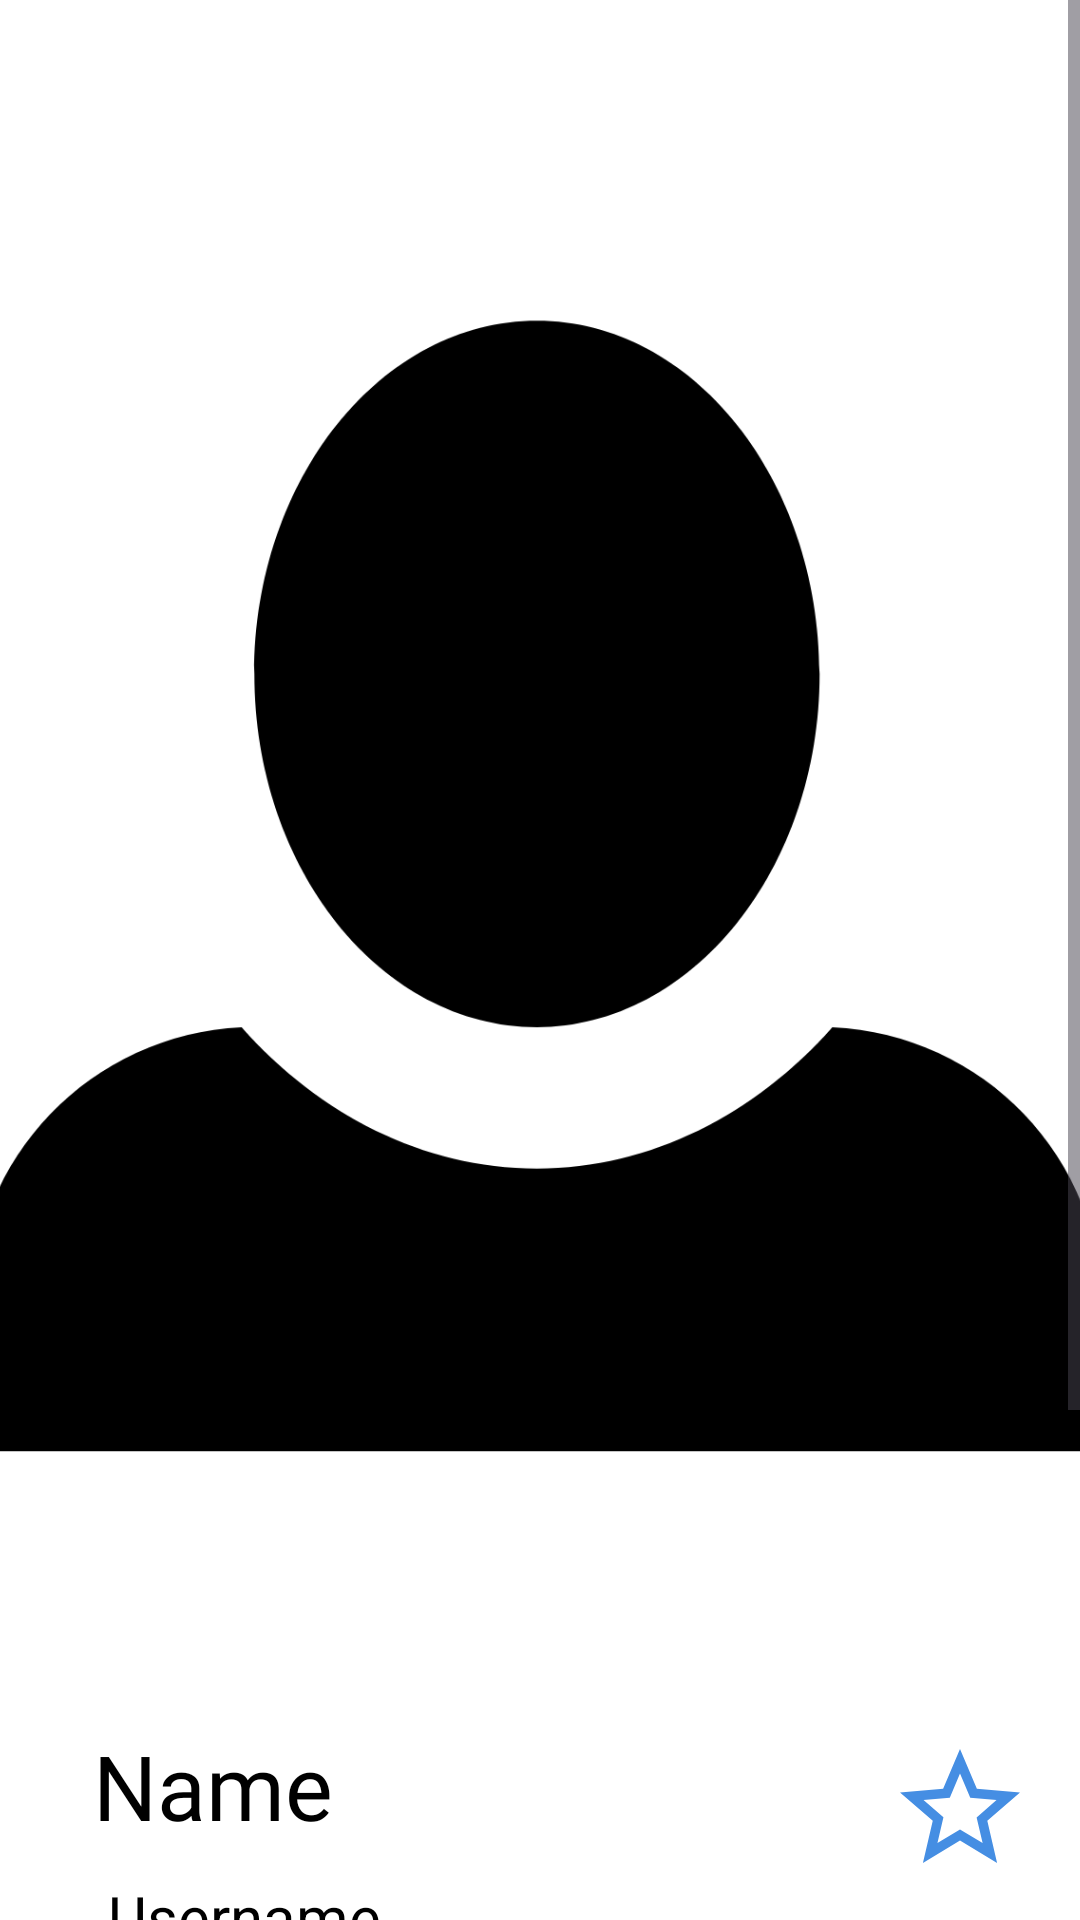

Icons on this 1080×1920 Android screen, each with the point to tap as point (x, y):
favorites: point (960, 1806)
